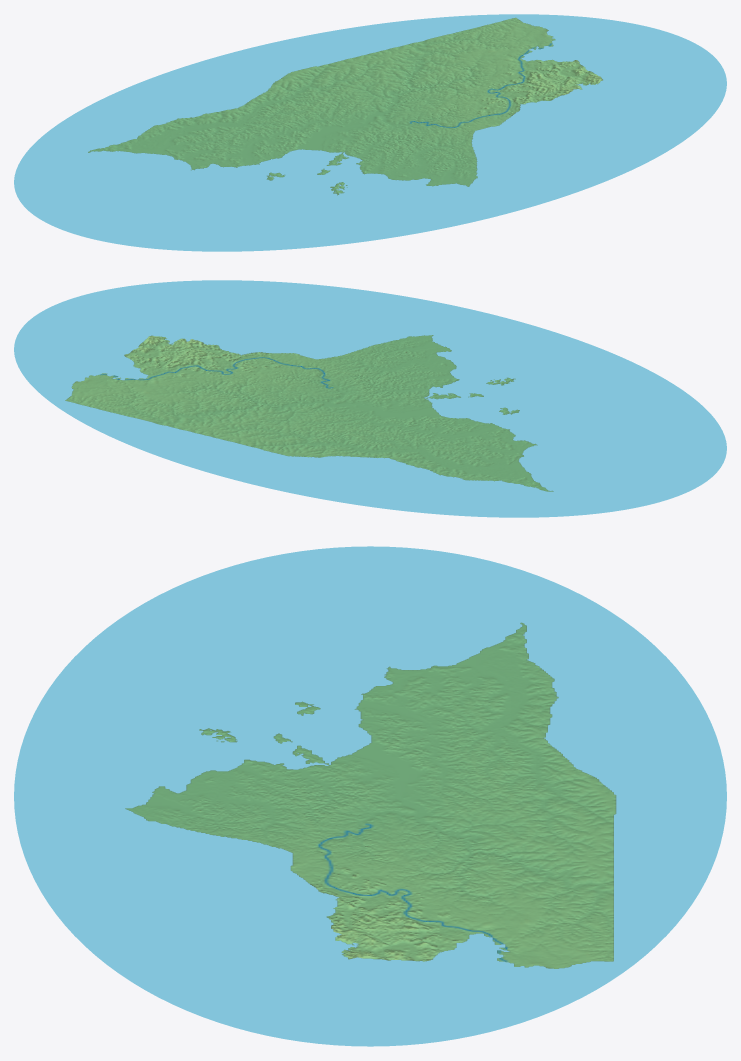
Rendered from GNB-terrain.glb.
3 renders of one model, top to bottom at view 1: azimuth 30°, elevation 25°; view 2: azimuth 150°, elevation 25°; view 3: azimuth 270°, elevation 25°, orthographic. The views are drawn at different scales.
Visible parts, largest first — view 1: Relevo com hidrografia; view 2: Relevo com hidrografia; view 3: Relevo com hidrografia.
Boxes of the visible parts, x1,y1,x2,y2 form: Relevo com hidrografia: (14,14,726,251); Relevo com hidrografia: (14,280,726,517); Relevo com hidrografia: (14,546,726,1046).
Size of the model in its own units: 2.31 by 0.0161 by 1.39.
Materials: 2 (1 with a texture image).
